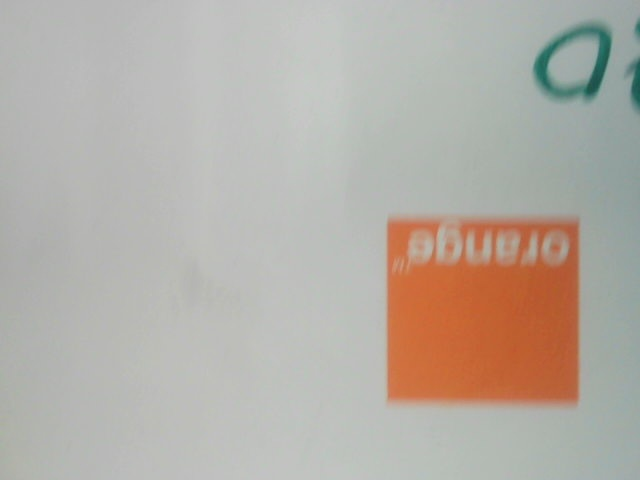AR_Orange: (365, 204, 589, 408)
